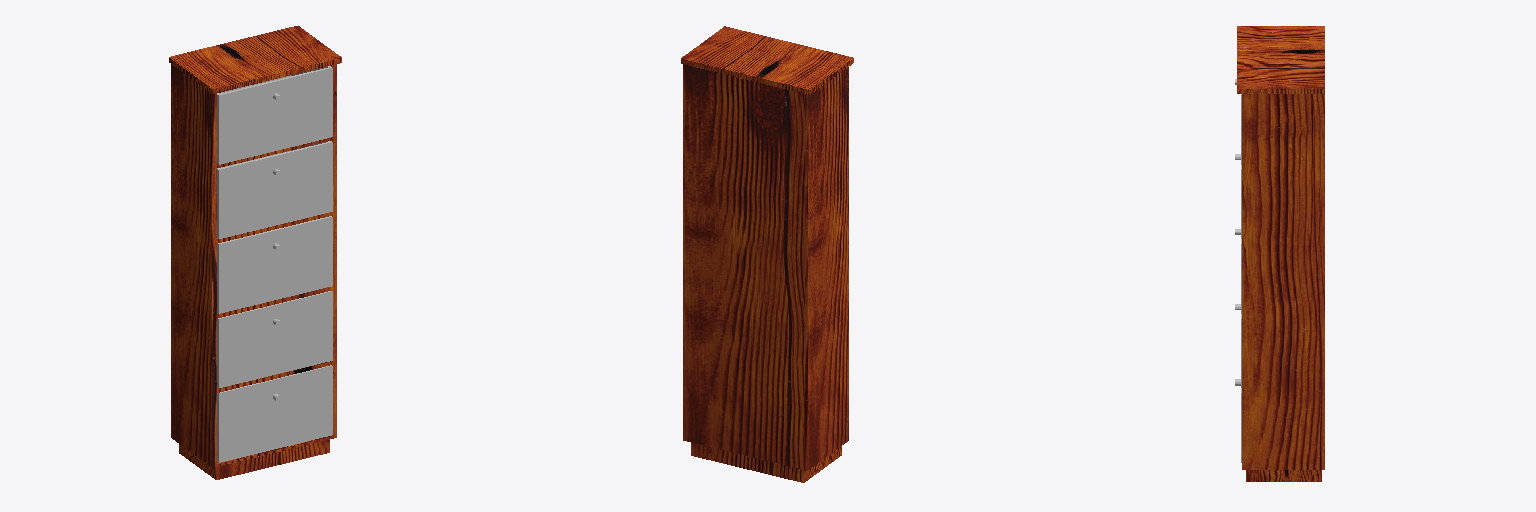
3 views of the same model, side by side, from view 1: azimuth 30°, elevation 25°; view 2: azimuth 150°, elevation 25°; view 3: azimuth 270°, elevation 25° (orthographic).
Parts seen in each view (by area): view 1: GlassDrawer:Default; view 2: GlassDrawer:Default; view 3: GlassDrawer:Default.
Boxes of the visible parts, x1,y1,x2,y2 form: GlassDrawer:Default: [169, 26, 341, 479]; GlassDrawer:Default: [681, 26, 853, 482]; GlassDrawer:Default: [1235, 26, 1324, 481].
Bounding box in the file's own units: 1.05 × 3.08 × 0.6403.
Materials: 4 (1 with a texture image).